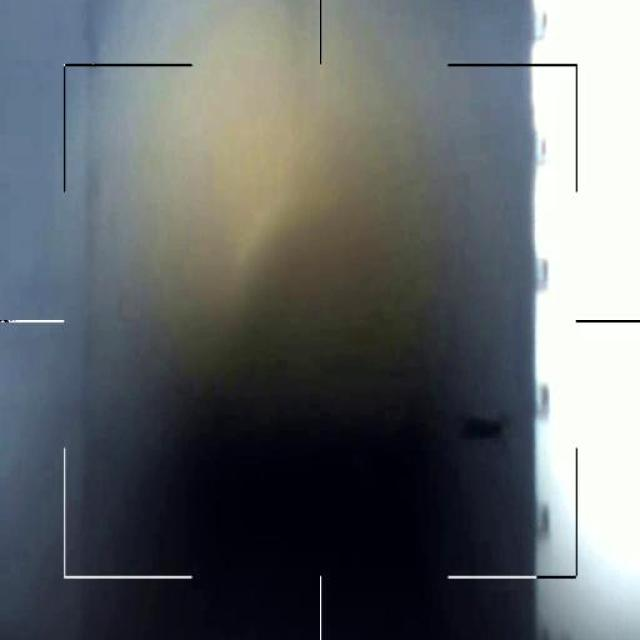bird: (462, 404, 510, 446)
